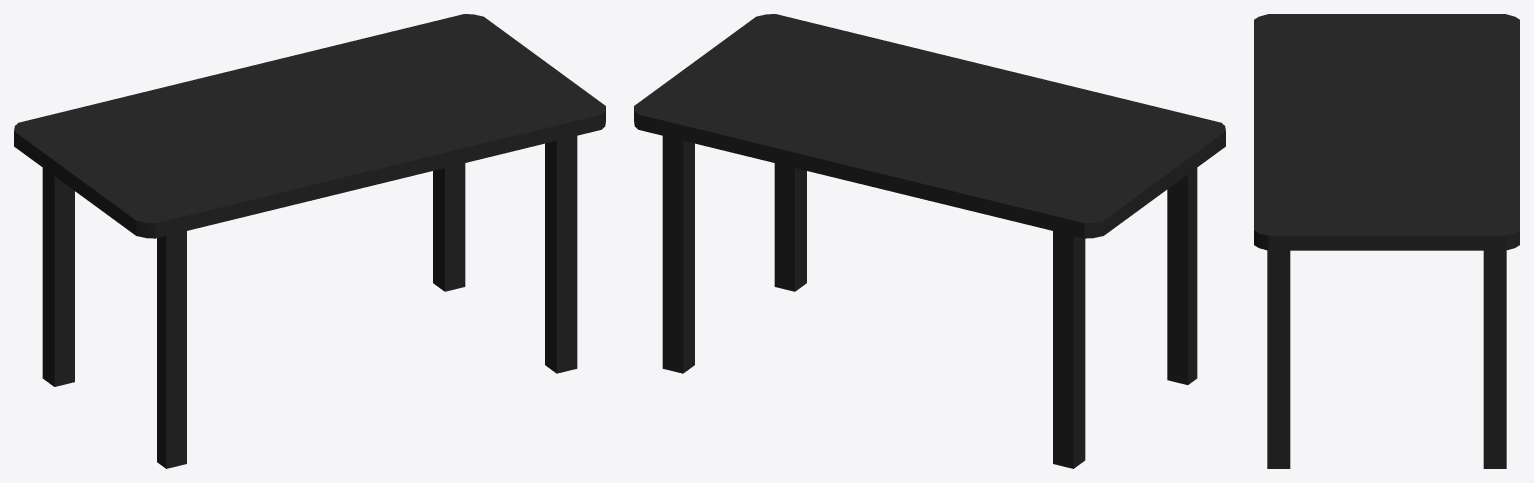
Rendered from mesa.obj.
3 renders of one model, left to right at view 1: azimuth 30°, elevation 25°; view 2: azimuth 150°, elevation 25°; view 3: azimuth 270°, elevation 25°, orthographic. The views are drawn at different scales.
Visible parts, largest first — view 1: Mesh5 Model, Mesh1 Model, Mesh2 Model, Mesh4 Model, Mesh3 Model; view 2: Mesh5 Model, Mesh3 Model, Mesh4 Model, Mesh2 Model, Mesh1 Model; view 3: Mesh5 Model, Mesh1 Model, Mesh3 Model.
Boxes of the visible parts, x1,y1,x2,y2 form: Mesh5 Model: [14, 14, 605, 238]; Mesh1 Model: [545, 136, 577, 373]; Mesh2 Model: [157, 231, 186, 468]; Mesh4 Model: [42, 168, 74, 386]; Mesh3 Model: [433, 163, 465, 291]; Mesh5 Model: [634, 14, 1225, 238]; Mesh3 Model: [662, 136, 694, 373]; Mesh4 Model: [1053, 231, 1085, 468]; Mesh2 Model: [1167, 168, 1197, 384]; Mesh1 Model: [774, 163, 806, 291]; Mesh5 Model: [1254, 14, 1519, 250]; Mesh1 Model: [1267, 250, 1290, 468]; Mesh3 Model: [1483, 250, 1506, 468].
Bounding box in the file's own units: 1.6 × 0.83 × 0.81.
Materials: 2 (1 with a texture image).
